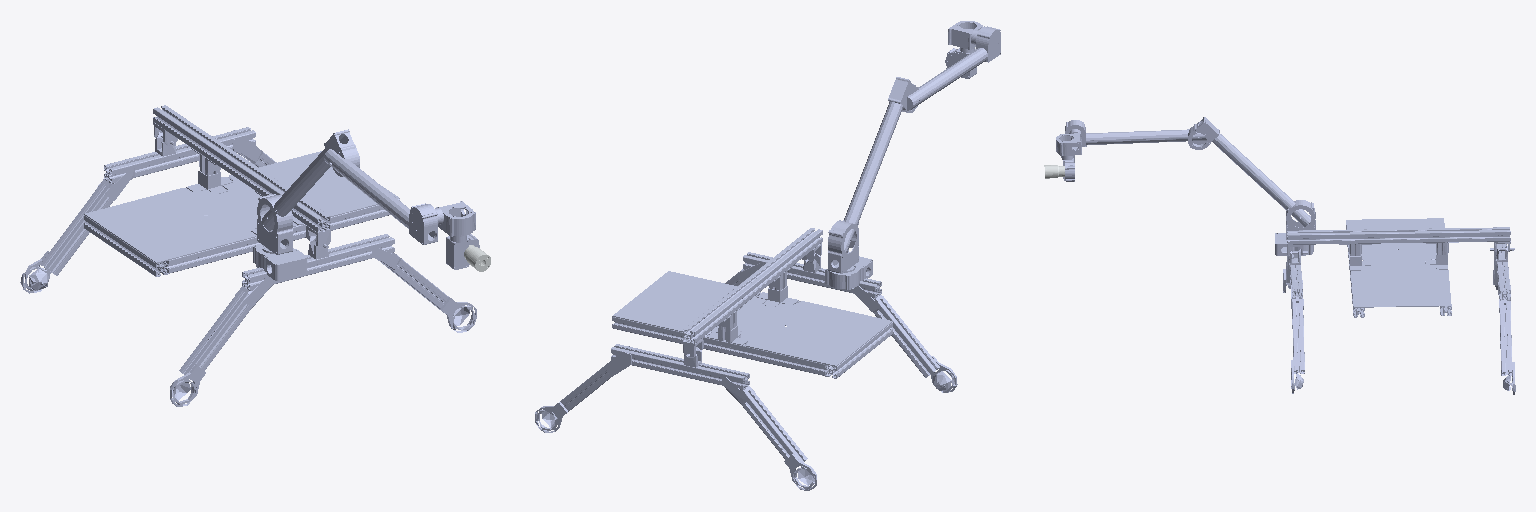
The robot description file, URDF, robot "arm_description":
<?xml version="1.0" encoding="utf-8"?>
<robot
  name="arm_description">
<link
    name="base_link">
    <inertial>
      <origin
        xyz="0.0044130475778954 -0.0310568977431112 0.118279871618265"
        rpy="0 0 1.57" />
      <mass
        value="5.00699131277012" />
      <inertia
        ixx="0.268939126634922"
        ixy="0.000157102820952367"
        ixz="-0.0117934298282522"
        iyy="0.61282212173551"
        iyz="0.0042109592921943"
        izz="0.435034401814071" />
    </inertial>
    <visual>
      <origin
        xyz="0 0 0"
        rpy="0 0 1.57" />
      <geometry>
        <mesh
          filename="package://mobile_base_description/meshes/base_link.STL" />
      </geometry>
      <material
        name="">
        <color
          rgba="0.792156862745098 0.819607843137255 0.933333333333333 1" />
      </material>
    </visual>
    <collision>
      <origin
        xyz="0 0 0"
        rpy="0 0 1.57" />
      <geometry>
        <mesh
          filename="package://mobile_base_description/meshes/base_link.STL" />
      </geometry>
    </collision>
  </link>
  <link
    name="right_front_wheel_link">
    <inertial>
      <origin
        xyz="-0.11217 8.8447E-05 5.7636E-05"
        rpy="0 0 0" />
      <mass
        value="1.5004" />
      <inertia
        ixx="9.5426E-06"
        ixy="3.0122E-07"
        ixz="1.5725E-07"
        iyy="0.00077209"
        iyz="3.7664E-07"
        izz="0.0007733" />
    </inertial>
    <visual>
      <origin
        xyz="0 0 0"
        rpy="0 0 0" />
      <geometry>
        <mesh
          filename="package://mobile_base_description/meshes/wheel_link.STL" />
      </geometry>
      <material
        name="">
        <color
          rgba="0.79216 0.81961 0.93333 1" />
      </material>
    </visual>
    <collision>
      <origin
        xyz="-0.10 0 0"
        rpy="0 1.57 0" />
      <geometry>
        <!--mesh
          filename="package://mobile_base_description/meshes/wheel_link.STL" /-->
	<cylinder radius="0.16" length="0.09"/>
      </geometry>
    </collision>
  </link>
  <joint
    name="right_front_wheel_joint"
    type="continuous">
    <origin
      xyz="-0.34172 -0.43476 -0.30409"
      rpy="1.5708 2.2837E-18 1.607305" />
    <parent
      link="base_link" />
    <child
      link="right_front_wheel_link" />
    <axis
      xyz="1 0 0" />
  </joint>
  <link
    name="left_front_wheel_link">
    <inertial>
      <origin
        xyz="-0.11217 8.8185E-05 5.7784E-05"
        rpy="0 0 0" />
      <mass
        value="1.5004" />
      <inertia
        ixx="9.5533E-06"
        ixy="3.0632E-07"
        ixz="1.5757E-07"
        iyy="0.00077207"
        iyz="3.7952E-07"
        izz="0.00077329" />
    </inertial>
    <visual>
      <origin
        xyz="0 0 0"
        rpy="0 0 0" />
      <geometry>
        <mesh
          filename="package://mobile_base_description/meshes/wheel_link.STL" />
      </geometry>
      <material
        name="">
        <color
          rgba="0.79216 0.81961 0.93333 1" />
      </material>
    </visual>
    <collision>
      <origin
        xyz="-0.10 0 0"
        rpy="0 1.57 0" />
      <geometry>
        <!--mesh
          filename="package://mobile_base_description/meshes/wheel_link.STL" /-->
	<cylinder radius="0.16" length="0.09"/>
      </geometry>
    </collision>
  </link>
  <joint
    name="left_front_wheel_joint"
    type="continuous">
    <origin
      xyz="0.43707 -0.64386 -0.30409"
      rpy="-1.5708 -2.2837E-18 1.607305" />
    <parent
      link="base_link" />
    <child
      link="left_front_wheel_link" />
    <axis
      xyz="1 0 0" />
  </joint>
  <link
    name="right_back_wheel_link">
    <inertial>
      <origin
        xyz="-0.11217 8.8435E-05 5.7607E-05"
        rpy="0 0 0" />
      <mass
        value="1.5004" />
      <inertia
        ixx="9.5638E-06"
        ixy="3.0089E-07"
        ixz="1.5622E-07"
        iyy="0.00077205"
        iyz="3.8333E-07"
        izz="0.00077327" />
    </inertial>
    <visual>
      <origin
        xyz="0 0 0"
        rpy="0 0 0" />
      <geometry>
        <mesh
          filename="package://mobile_base_description/meshes/wheel_link.STL" />
      </geometry>
      <material
        name="">
        <color
          rgba="0.79216 0.81961 0.93333 1" />
      </material>
    </visual>
    <collision>
      <origin
        xyz="-0.10 0 0"
        rpy="0 1.57 0" />
      <geometry>
        <!--mesh
          filename="package://mobile_base_description/meshes/wheel_link.STL" /-->
	<cylinder radius="0.16" length="0.09"/>
      </geometry>
    </collision>
  </link>
  <joint
    name="right_rear_wheel_joint"
    type="continuous">
    <origin
      xyz="-0.42784 0.34311 -0.30409"
      rpy="1.5708 2.2837E-18 -1.5343" />
    <parent
      link="base_link" />
    <child
      link="right_back_wheel_link" />
    <axis
      xyz="1 0 0" />
  </joint>
  <link
    name="left_back_wheel_link">
    <inertial>
      <origin
        xyz="-0.11217 8.8435E-05 5.7607E-05"
        rpy="0 0 0" />
      <mass
        value="1.5004" />
      <inertia
        ixx="9.5638E-06"
        ixy="3.0089E-07"
        ixz="1.5622E-07"
        iyy="0.00077205"
        iyz="3.8333E-07"
        izz="0.00077327" />
    </inertial>
    <visual>
      <origin
        xyz="0 0 0"
        rpy="0 0 0" />
      <geometry>
        <mesh
          filename="package://mobile_base_description/meshes/wheel_link.STL" />
      </geometry>
      <material
        name="">
        <color
          rgba="0.79216 0.81961 0.93333 1" />
      </material>
    </visual>
    <collision>
      <origin
        xyz="-0.10 0 0"
        rpy="0 1.57 0" />
      <geometry>
        <!--mesh
          filename="package://mobile_base_description/meshes/wheel_link.STL" /-->
	<cylinder radius="0.16" length="0.09"/>
      </geometry>
    </collision>
  </link>
  <joint
    name="left_rear_wheel_joint"
    type="continuous">
    <origin
      xyz="0.40294 0.32408 -0.30409"
      rpy="1.5708 5.545E-15 -1.5343" />
    <parent
      link="base_link" />
    <child
      link="left_back_wheel_link" />
    <axis
      xyz="1 0 0" />
  </joint>

  <link
    name="arm_base_link">
    <inertial>
      <origin
        xyz="0.055 0.028511 -0.07071"
        rpy="0 0 0" />
      <mass
        value="0.22424" />
      <inertia
        ixx="1"
        ixy="1"
        ixz="0"
        iyy="1"
        iyz="0"
        izz="1" />
    </inertial>
    <visual>
      <origin
        xyz="0 0 0"
        rpy="0 0 0" />
      <geometry>
        <mesh
          filename="package://arm_description/meshes/base_link.STL" />
      </geometry>
      <material
        name="">
        <color
          rgba="0.79216 0.81961 0.93333 1" />
      </material>
    </visual>
    <collision>
      <origin
        xyz="0 0 0"
        rpy="0 0 0" />
      <geometry>
        <mesh
          filename="package://arm_description/meshes/base_link.STL" />
      </geometry>
    </collision>
  </link>
  
  <joint
    name="joint_dummy"
    type="fixed">
    <origin
      xyz="-0.05 -0.5 0.0"
      rpy="0 0 0" />
    <parent
      link="base_link" />
    <child
      link="arm_base_link" />
  </joint>
  
  <link
    name="link1">
    <inertial>
      <origin
        xyz="0 -0.0739919805157646 0.00271975586057593"
        rpy="0 0 0" />
      <mass
        value="0.182986637355482" />
      <inertia
        ixx="1"
        ixy="0"
        ixz="0"
        iyy="1"
        iyz="0"
        izz="1" />
    </inertial>
    <visual>
      <origin
        xyz="0 0 0"
        rpy="0 0 0" />
      <geometry>
        <mesh
          filename="package://arm_description/meshes/link1.STL" />
      </geometry>
      <material
        name="">
        <color
          rgba="0.792156862745098 0.819607843137255 0.933333333333333 1" />
      </material>
    </visual>
    <collision>
      <origin
        xyz="0 0 0"
        rpy="0 0 0" />
      <geometry>
        <mesh
          filename="package://arm_description/meshes/link1.STL" />
      </geometry>
    </collision>
  </link>
  <joint
    name="joint1"
    type="revolute">
    <origin
      xyz="0.055 0.105 0.058"
      rpy="-1.5708 -6.123E-17 -1.5708" />
    <parent
      link="arm_base_link" />
    <child
      link="link1" />
     <axis
      xyz="0 1 0" />
    <limit
      lower="-3.14"
      upper="3.14"
      effort="100"
      velocity="20" />
      <dynamics
        damping = "5"
        friction = "5"/>
  </joint>
  <link
    name="link2">
    <inertial>
      <origin
        xyz="9.33241508168856E-05 0.00299946771656848 0.259411152659096"
        rpy="0 0 0" />
      <mass
        value="0.15891412192705" />
      <inertia
        ixx="1"
        ixy="0"
        ixz="0"
        iyy="1"
        iyz="0"
        izz="1" />
    </inertial>
    <visual>
      <origin
        xyz="0 0 0"
        rpy="0 0 0" />
      <geometry>
        <mesh
          filename="package://arm_description/meshes/link2.STL" />
      </geometry>
      <material
        name="">
        <color
          rgba="0.792156862745098 0.819607843137255 0.933333333333333 1" />
      </material>
    </visual>
    <collision>
      <origin
        xyz="0 0 0"
        rpy="0 0 0" />
      <geometry>
        <mesh
          filename="package://arm_description/meshes/link2.STL" />
      </geometry>
    </collision>
  </link>
  <joint
    name="joint2"
    type="revolute">
    <origin
      xyz="0 -0.0975 0.0005"
      rpy="0.79351 1.5708 0" />
    <parent
      link="link1" />
    <child
      link="link2" />
     <axis
      xyz="1 0 0" />
    <limit
      lower="-3.14"
      upper="3.14"
      effort="100"
      velocity="20" />
  </joint>
  <link
    name="link3">
    <inertial>
      <origin
        xyz="-0.000140175541839031 0.00170047101330162 0.234927029132246"
        rpy="0 0 0" />
      <mass
        value="0.12508309667554" />
      <inertia
        ixx="1"
        ixy="0"
        ixz="0"
        iyy="1"
        iyz="0"
        izz="1" />
    </inertial>
    <visual>
      <origin
        xyz="0 0 0"
        rpy="0 0 0" />
      <geometry>
        <mesh
          filename="package://arm_description/meshes/link3.STL" />
      </geometry>
      <material
        name="">
        <color
          rgba="0.792156862745098 0.819607843137255 0.933333333333333 1" />
      </material>
    </visual>
    <collision>
      <origin
        xyz="0 0 0"
        rpy="0 0 0" />
      <geometry>
        <mesh
          filename="package://arm_description/meshes/link3.STL" />
      </geometry>
    </collision>
  </link>
  <joint
    name="joint3"
    type="revolute">
    <origin
      xyz="0.0245 0.0495 0.5419"
      rpy="0.83549 0 3.1416" />
    <parent
      link="link2" />
    <child
      link="link3" />
     <axis
      xyz="1 0 0" />
    <limit
      lower="-3.14"
      upper="3.14"
      effort="100"
      velocity="20" />
  </joint>
  <link
    name="link4">
    <inertial>
      <origin
        xyz="-0.00777696008671636 0.0133698565418885 0.0217435569521924"
        rpy="0 0 0" />
      <mass
        value="0.156151945009422" />
      <inertia
        ixx="1"
        ixy="0"
        ixz="0"
        iyy="1"
        iyz="0"
        izz="1" />
	</inertial>
    <visual>
      <origin
        xyz="0 0 0"
        rpy="0 0 0" />
      <geometry>
        <mesh
          filename="package://arm_description/meshes/link4.STL" />
      </geometry>
      <material
        name="">
        <color
          rgba="0.792156862745098 0.819607843137255 0.933333333333333 1" />
      </material>
    </visual>
    <collision>
      <origin
        xyz="0 0 0"
        rpy="0 0 0" />
      <geometry>
        <mesh
          filename="package://arm_description/meshes/link4.STL" />
      </geometry>
    </collision>
  </link>
  <joint
    name="joint4"
    type="revolute">
    <origin
      xyz="0.0545 0.0355 0.503"
      rpy="1.5708 -6.9389E-18 1.5708" />
    <parent
      link="link3" />
    <child
      link="link4" />
     <axis
      xyz="0 0 1" />
    <limit
      lower="-3.14"
      upper="3.14"
      effort="100"
      velocity="20" />
  </joint>
  <link
    name="link5">
    <inertial>
      <origin
        xyz="0.00423182736021133 0.00932384755029578 0.0219997086154421"
        rpy="0 0 0" />
      <mass
        value="0.153675066385186" />
      <inertia
        ixx="1"
        ixy="0"
        ixz="0"
        iyy="1"
        iyz="0"
        izz="1" />
    </inertial>
    <visual>
      <origin
        xyz="0 0 0"
        rpy="0 0 0" />
      <geometry>
        <mesh
          filename="package://arm_description/meshes/link5.STL" />
      </geometry>
      <material
        name="">
        <color
          rgba="0.792156862745098 0.819607843137255 0.933333333333333 1" />
      </material>
    </visual>
    <collision>
      <origin
        xyz="0 0 0"
        rpy="0 0 0" />
      <geometry>
        <mesh
          filename="package://arm_description/meshes/link5.STL" />
      </geometry>
    </collision>
  </link>
  <joint
    name="joint5"
    type="revolute">
    <origin
      xyz="-0.07 0.035 0.044"
      rpy="1.5708 0 -1.5708" />
    <parent
      link="link4" />
    <child
      link="link5" />
     <axis
      xyz="0 0 1" />
    <limit
      lower="-3.14"
      upper="3.14"
      effort="100"
      velocity="20" />
  </joint>
  <link
    name="link6">
    <inertial>
      <origin
        xyz="2.77555756156289E-17 1.11022302462516E-16 0.0181583763254755"
        rpy="0 0 0" />
      <mass
        value="0.299295530441066" />
      <inertia
        ixx="1"
        ixy="0"
        ixz="0"
        iyy="1"
        iyz="0"
        izz="1" />
    </inertial>
    <visual>
      <origin
        xyz="0 0 0"
        rpy="0 0 0" />
      <geometry>
        <mesh
          filename="package://arm_description/meshes/link6.STL" />
      </geometry>
      <material
        name="">
        <color
          rgba="0.898039215686275 0.917647058823529 0.929411764705882 1" />
      </material>
    </visual>
    <collision>
      <origin
        xyz="0 0 0"
        rpy="0 0 0" />
      <geometry>
        <mesh
          filename="package://arm_description/meshes/link6.STL" />
      </geometry>
    </collision>
  </link>
  <joint
    name="joint6"
    type="revolute">
    <origin
      xyz="-0.041 0.031 0.045"
      rpy="-1.5708 0 1.5708" />
    <parent
      link="link5" />
    <child
      link="link6" />
     <axis
      xyz="0 0 1" />
    <limit
      lower="-3.14"
      upper="3.14"
      effort="100"
      velocity="20" />
  </joint>
<transmission name="tran1">
    <type>transmission_interface/SimpleTransmission</type>
    <joint name="joint1">
      <hardwareInterface>hardware_interface/EffortJointInterface</hardwareInterface>
    </joint>
    <actuator name="motor1">
      <hardwareInterface>hardware_interface/EffortJointInterface</hardwareInterface>
      <mechanicalReduction>1</mechanicalReduction>
    </actuator>
  </transmission>   
<transmission name="tran2">
    <type>transmission_interface/SimpleTransmission</type>
    <joint name="joint2">
      <hardwareInterface>hardware_interface/EffortJointInterface</hardwareInterface>
    </joint>
    <actuator name="motor2">
      <hardwareInterface>hardware_interface/EffortJointInterface</hardwareInterface>
      <mechanicalReduction>1</mechanicalReduction>
    </actuator>
  </transmission> 
<transmission name="tran3">
    <type>transmission_interface/SimpleTransmission</type>
    <joint name="joint3">
      <hardwareInterface>hardware_interface/EffortJointInterface</hardwareInterface>
    </joint>
    <actuator name="motor3">
      <hardwareInterface>hardware_interface/EffortJointInterface</hardwareInterface>
      <mechanicalReduction>1</mechanicalReduction>
    </actuator>
  </transmission>
<transmission name="tran4">
    <type>transmission_interface/SimpleTransmission</type>
    <joint name="joint4">
      <hardwareInterface>hardware_interface/EffortJointInterface</hardwareInterface>
    </joint>
    <actuator name="motor4">
      <hardwareInterface>hardware_interface/EffortJointInterface</hardwareInterface>
      <mechanicalReduction>1</mechanicalReduction>
    </actuator>
  </transmission>
<transmission name="tran5">
    <type>transmission_interface/SimpleTransmission</type>
    <joint name="joint5">
      <hardwareInterface>hardware_interface/EffortJointInterface</hardwareInterface>
    </joint>
    <actuator name="motor5">
      <hardwareInterface>hardware_interface/EffortJointInterface</hardwareInterface>
      <mechanicalReduction>1</mechanicalReduction>
    </actuator>
  </transmission>
<transmission name="tran6">
    <type>transmission_interface/SimpleTransmission</type>
    <joint name="joint6">
      <hardwareInterface>hardware_interface/EffortJointInterface</hardwareInterface>
    </joint>
    <actuator name="motor6">
      <hardwareInterface>hardware_interface/EffortJointInterface</hardwareInterface>
      <mechanicalReduction>1</mechanicalReduction>
    </actuator>
  </transmission>

<transmission name="tran7">
    <type>transmission_interface/SimpleTransmission</type>
    <joint name="left_front_wheel_joint">
      <hardwareInterface>hardware_interface/VelocityJointInterface</hardwareInterface>
    </joint>
    <actuator name="motor7">
      <hardwareInterface>hardware_interface/VelocityJointInterface</hardwareInterface>
      <mechanicalReduction>1</mechanicalReduction>
    </actuator>
  </transmission>
<transmission name="tran8">
    <type>transmission_interface/SimpleTransmission</type>
    <joint name="right_front_wheel_joint">
      <hardwareInterface>hardware_interface/VelocityJointInterface</hardwareInterface>
    </joint>
    <actuator name="motor8">
      <hardwareInterface>hardware_interface/VelocityJointInterface</hardwareInterface>
      <mechanicalReduction>1</mechanicalReduction>
    </actuator>
  </transmission>
<transmission name="tran9">
    <type>transmission_interface/SimpleTransmission</type>
    <joint name="left_rear_wheel_joint">
      <hardwareInterface>hardware_interface/VelocityJointInterface</hardwareInterface>
    </joint>
    <actuator name="motor9">
      <hardwareInterface>hardware_interface/VelocityJointInterface</hardwareInterface>
      <mechanicalReduction>1</mechanicalReduction>
    </actuator>
  </transmission>
<transmission name="tran10">
    <type>transmission_interface/SimpleTransmission</type>
    <joint name="right_rear_wheel_joint">
      <hardwareInterface>hardware_interface/VelocityJointInterface</hardwareInterface>
    </joint>
    <actuator name="motor10">
      <hardwareInterface>hardware_interface/VelocityJointInterface</hardwareInterface>
      <mechanicalReduction>1</mechanicalReduction>
    </actuator>
  </transmission>
  <gazebo>
    <plugin name="gazebo_ros_control" filename="libgazebo_ros_control.so">
    </plugin>
  </gazebo>
</robot>

--- What the picture shows (computed from the rendered views, not written in the file) ---
The picture shows the robot from 3 angles, left to right: view 1: azimuth 30°, elevation 25°; view 2: azimuth 150°, elevation 25°; view 3: azimuth 270°, elevation 25°; orthographic projection.
Model arm_description with 12 links and 11 joints (6 revolute, 4 continuous, 1 fixed), rooted at base_link, posed all joints at 0.
Visible links, largest first — view 1: base_link, link3, link2, link1, arm_base_link, link4, link5; view 2: base_link, link2, link3, link1, arm_base_link, link4; view 3: base_link, link2, link3, link4, link1.
Boxes of the visible links, x1,y1,x2,y2 form: base_link: (20,105,476,406); link3: (324,149,437,244); link2: (262,129,359,230); link1: (257,194,292,254); arm_base_link: (253,243,306,280); link4: (435,201,475,236); link5: (446,234,479,269); base_link: (535,228,957,490); link2: (844,77,918,252); link3: (907,26,1000,110); link1: (828,220,858,273); arm_base_link: (825,256,872,289); link4: (948,21,982,49); base_link: (1283,218,1515,394); link2: (1188,117,1310,226); link3: (1065,120,1206,146); link4: (1056,129,1081,155); link1: (1286,200,1315,239).
Size in the robot's own frame: 1.08 by 1.92 by 0.9427 metres.
Meshes: 9 distinct files referenced, 8 mesh visuals loaded (8 binary STL); not drawn: 4 (reference not matched to a file when rendering).